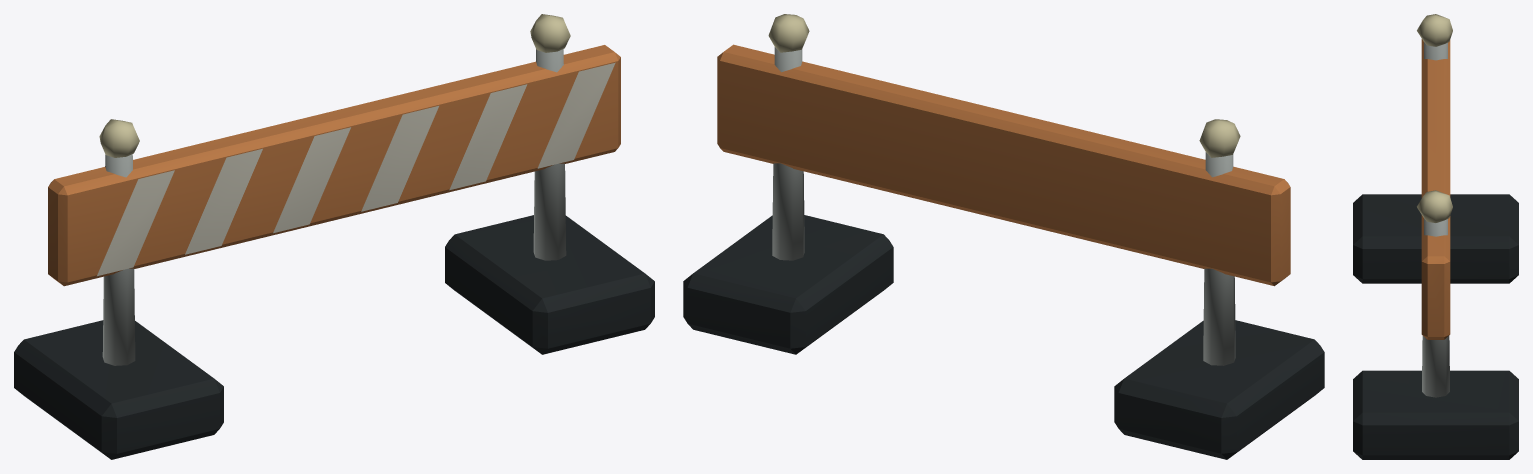
File: barrier-01-road.glb
3 views of the same model, side by side, from view 1: azimuth 30°, elevation 25°; view 2: azimuth 150°, elevation 25°; view 3: azimuth 270°, elevation 25° (orthographic). The views are drawn at different scales.
Visible parts, largest first — view 1: barrier_geometry; view 2: barrier_geometry; view 3: barrier_geometry.
Part boxes in pixels (left/top/right/bottom): barrier_geometry: left=14, top=14, right=654, bottom=459; barrier_geometry: left=683, top=14, right=1324, bottom=459; barrier_geometry: left=1353, top=14, right=1518, bottom=459.
Bounding box in the file's own units: 2.3 × 1.15 × 0.7.
